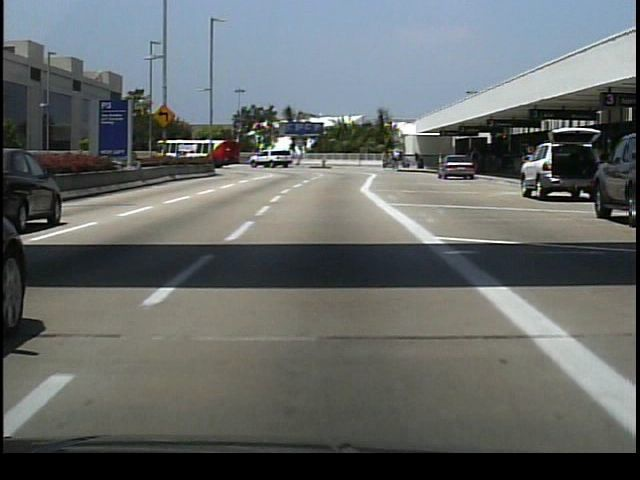person: (467, 149, 482, 179), (391, 150, 401, 176)
